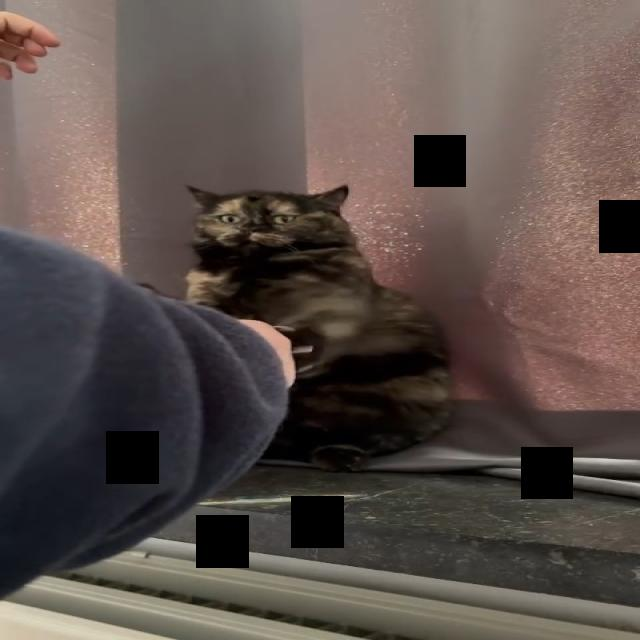authorized: (182, 182, 454, 472)
